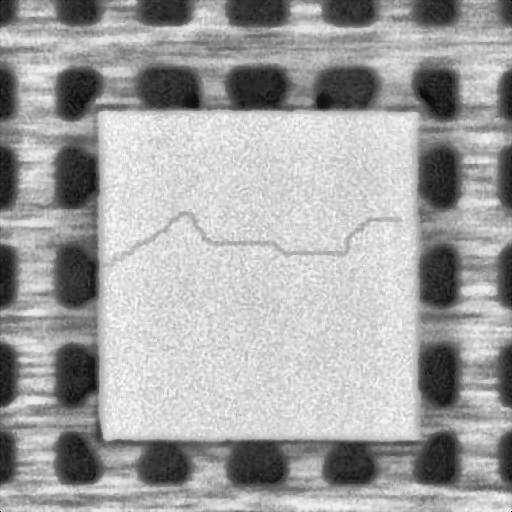DIE_CRACK: (106, 209, 408, 268)
